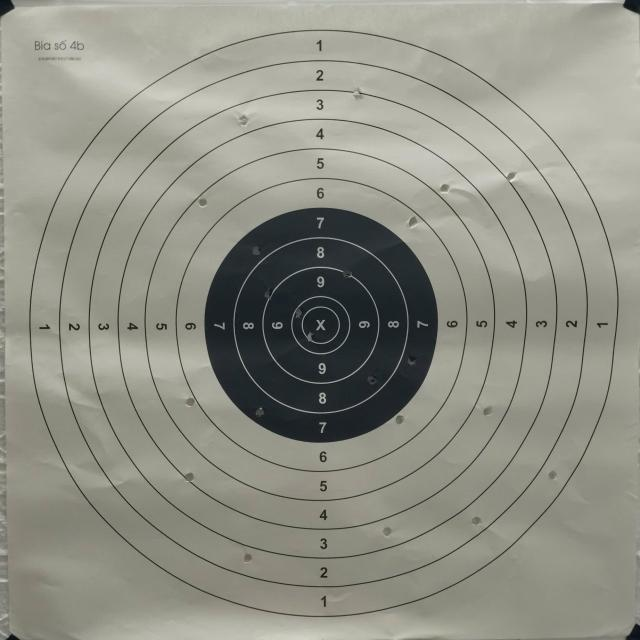bullet: (184, 396, 196, 408), (184, 472, 196, 484), (352, 88, 363, 100), (200, 196, 208, 208), (408, 216, 416, 228), (264, 288, 272, 300), (252, 244, 260, 256), (244, 552, 252, 564), (344, 268, 352, 279), (240, 116, 248, 127), (508, 172, 516, 183), (548, 472, 559, 479), (472, 516, 479, 527), (308, 332, 315, 342), (384, 528, 392, 536), (368, 376, 376, 384), (440, 184, 448, 192), (408, 356, 416, 364), (396, 416, 404, 424), (484, 408, 492, 415), (256, 408, 264, 415), (296, 308, 300, 320)
target: (5, 4, 632, 636)
